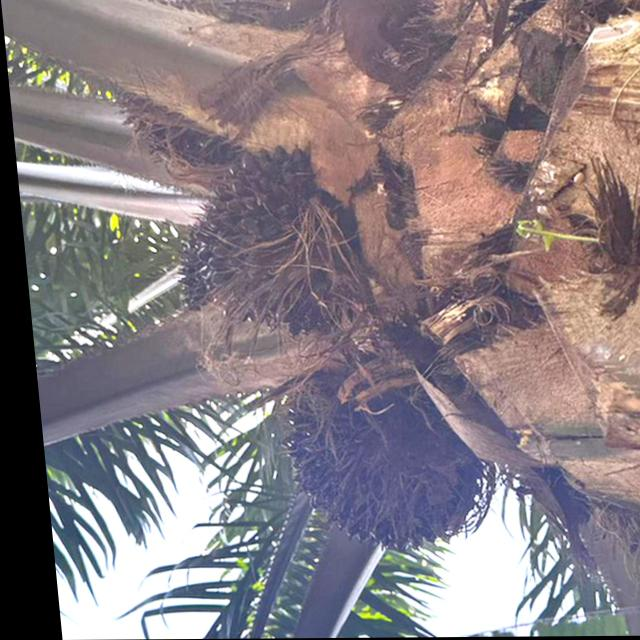almost: (153, 144, 335, 335)
